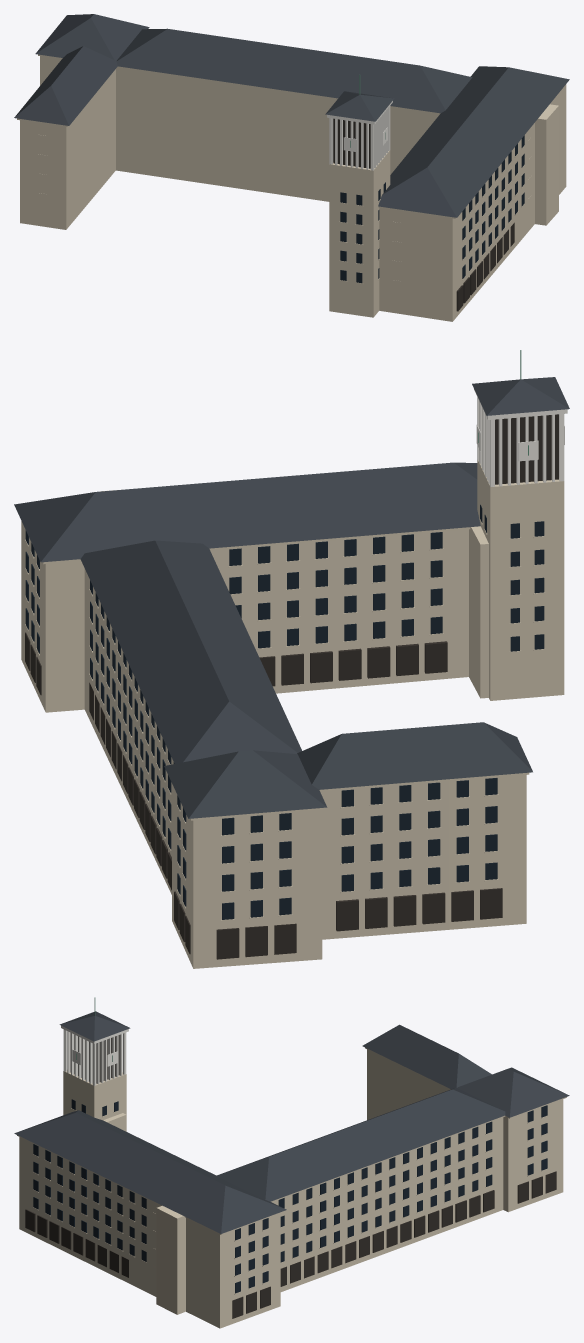
File: rathaus.glb
3 views of the same model, one above another, from view 1: azimuth 30°, elevation 25°; view 2: azimuth 150°, elevation 25°; view 3: azimuth 270°, elevation 25° (orthographic). The views are drawn at different scales.
Parts seen in each view (by area): view 1: rathaus_lod0; view 2: rathaus_lod0; view 3: rathaus_lod0.
Part boxes in pixels (bbox=[...]): rathaus_lod0: bbox=[14, 14, 569, 321]; rathaus_lod0: bbox=[14, 350, 569, 968]; rathaus_lod0: bbox=[14, 997, 569, 1328].
Size of what is drawn, in the model's own units: 81.22 by 39 by 94.06.
